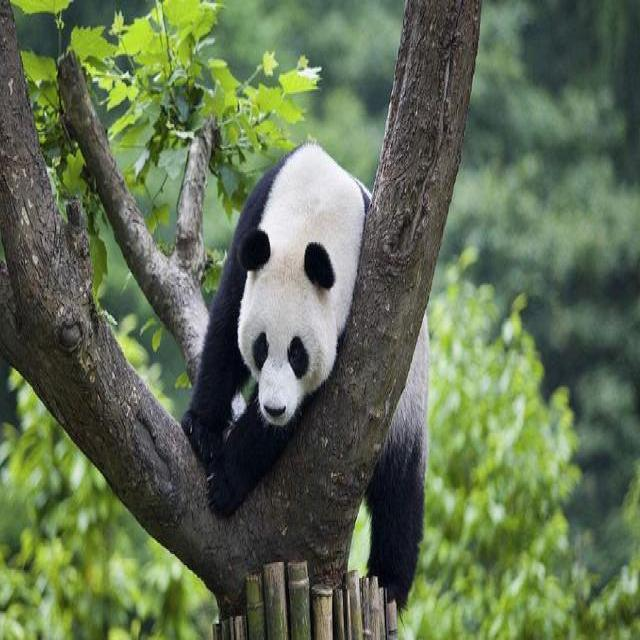panda: (159, 145, 485, 608)
